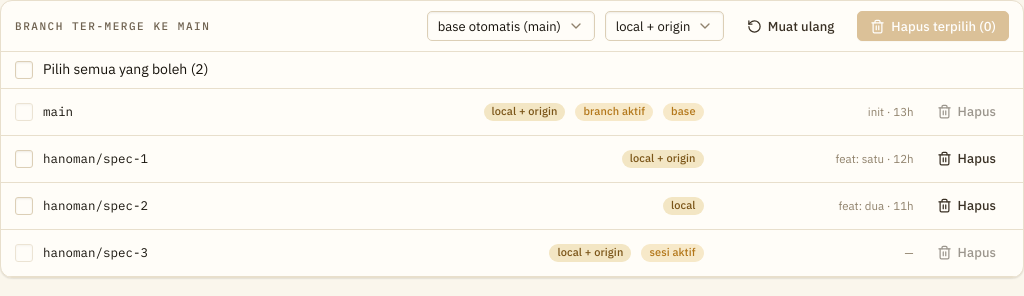
Scenario: BranchesPanel › pilih semua hanya mencentang yang boleh dihapus
Expected: the text "hanoman/spec-1" is shown, top-left (43, 150), bottom-right (148, 166)
Click the checkbox next to "Pilih semua yang boleh (2)": coordinates (24, 70) top-left (15, 61), bottom-right (33, 79)
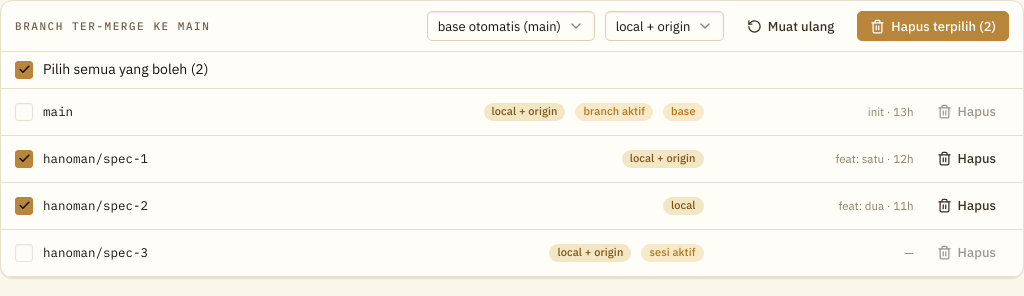
Expected: the button with test id "bulk-delete" shows "2", top-left (857, 11), bottom-right (1009, 41)
